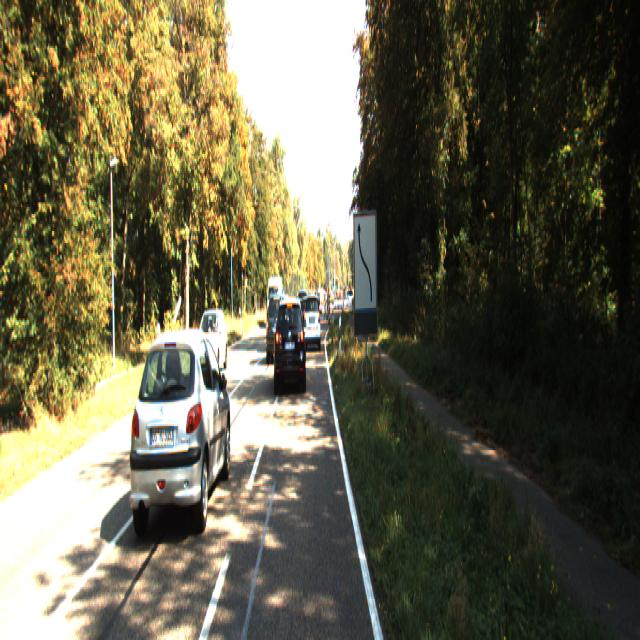Car: (129, 317, 231, 534), (274, 294, 306, 391), (192, 306, 227, 374), (265, 290, 290, 360), (304, 291, 321, 346)
